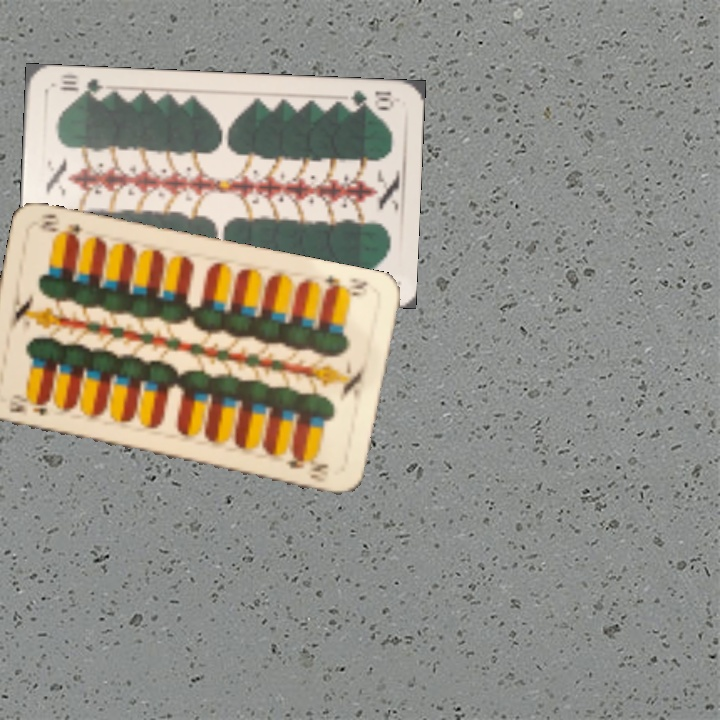E10: (321, 271, 370, 299), (4, 393, 50, 418)
G10: (339, 86, 396, 113)
